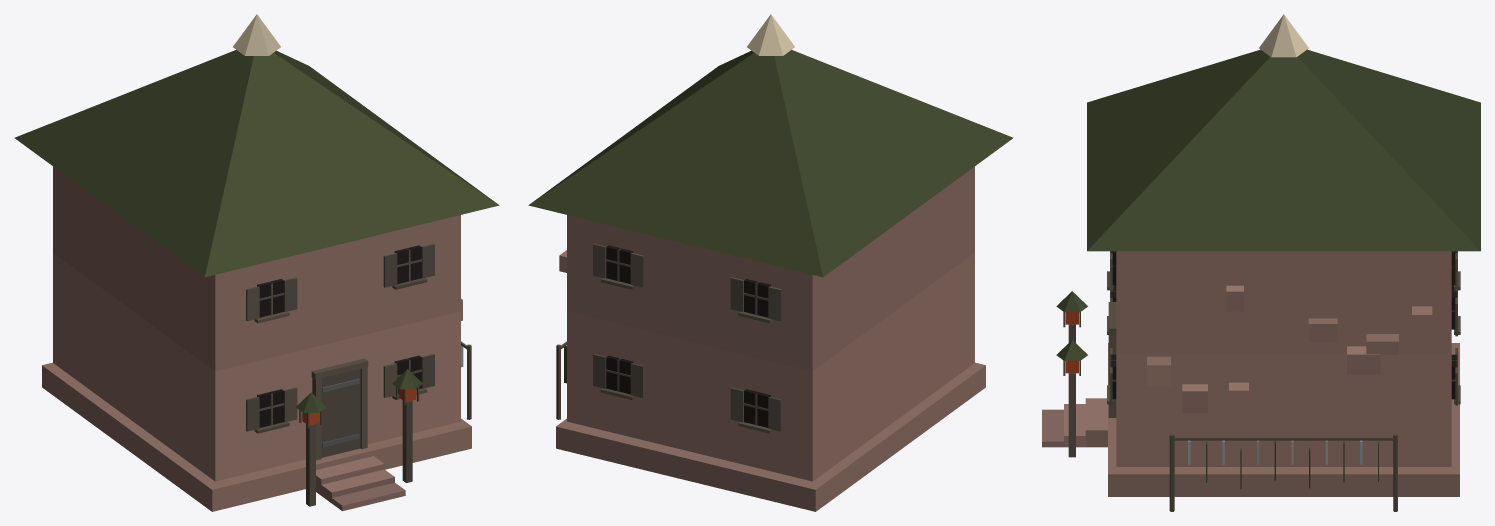
File: walk_reef_tall.glb
The picture shows the model from 3 angles, left to right: view 1: azimuth 30°, elevation 25°; view 2: azimuth 150°, elevation 25°; view 3: azimuth 270°, elevation 25°; orthographic projection. The views are drawn at different scales.
Parts seen in each view (by area): view 1: walk_reef_tall, walk_reef_tall_roof; view 2: walk_reef_tall, walk_reef_tall_roof; view 3: walk_reef_tall, walk_reef_tall_roof.
Part boxes in pixels (left/top/right/bottom): walk_reef_tall: left=42, top=166, right=471, bottom=511; walk_reef_tall_roof: left=14, top=14, right=499, bottom=277; walk_reef_tall: left=556, top=166, right=985, bottom=511; walk_reef_tall_roof: left=528, top=14, right=1013, bottom=277; walk_reef_tall: left=1042, top=251, right=1460, bottom=511; walk_reef_tall_roof: left=1087, top=14, right=1480, bottom=251.
Size of what is drawn, in the model's own units: 8.78 by 10.99 by 10.47.
Materials: 2 (2 with a texture image).
